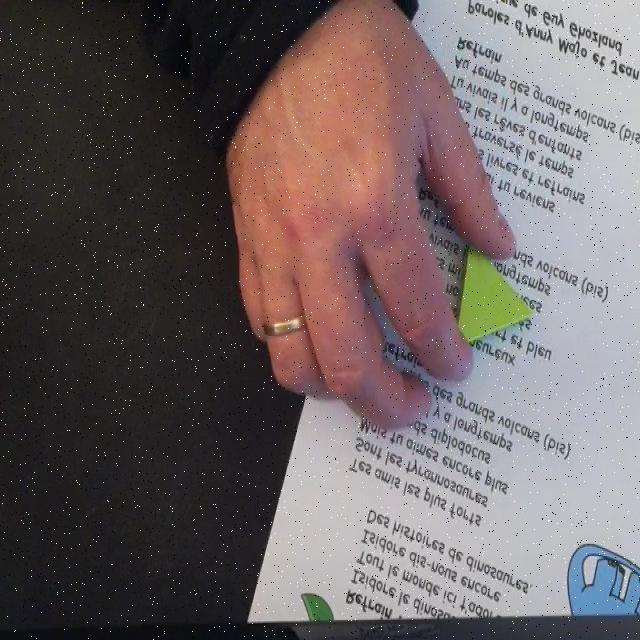triangle: (449, 241, 534, 351)
